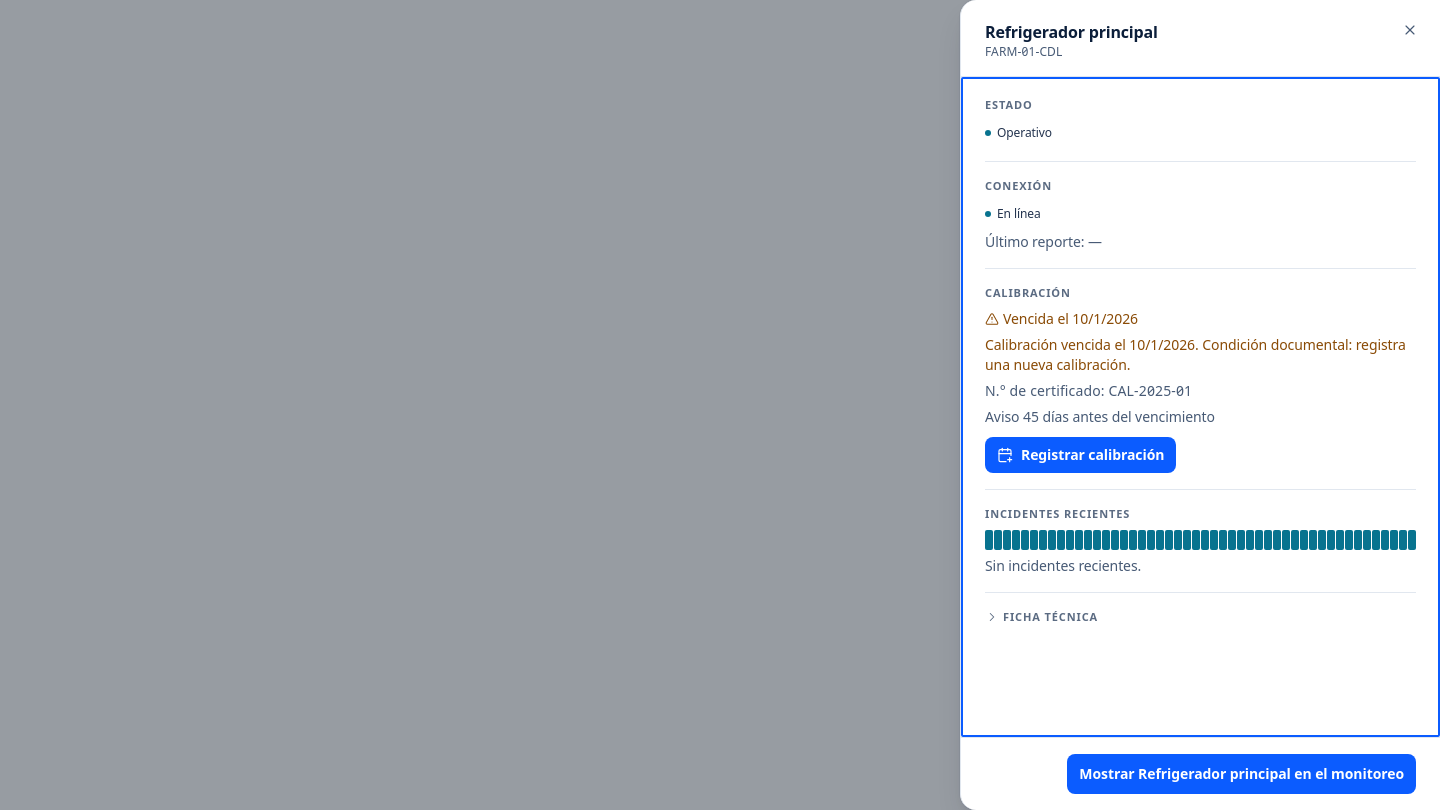
Scenario: PanelDetalleEquipo — HU-30 calibración (QF) › registra certificado, vencimiento y margen con el contrato del backend
Click the button "Registrar calibración": [1081, 455] box [985,437,1176,473]
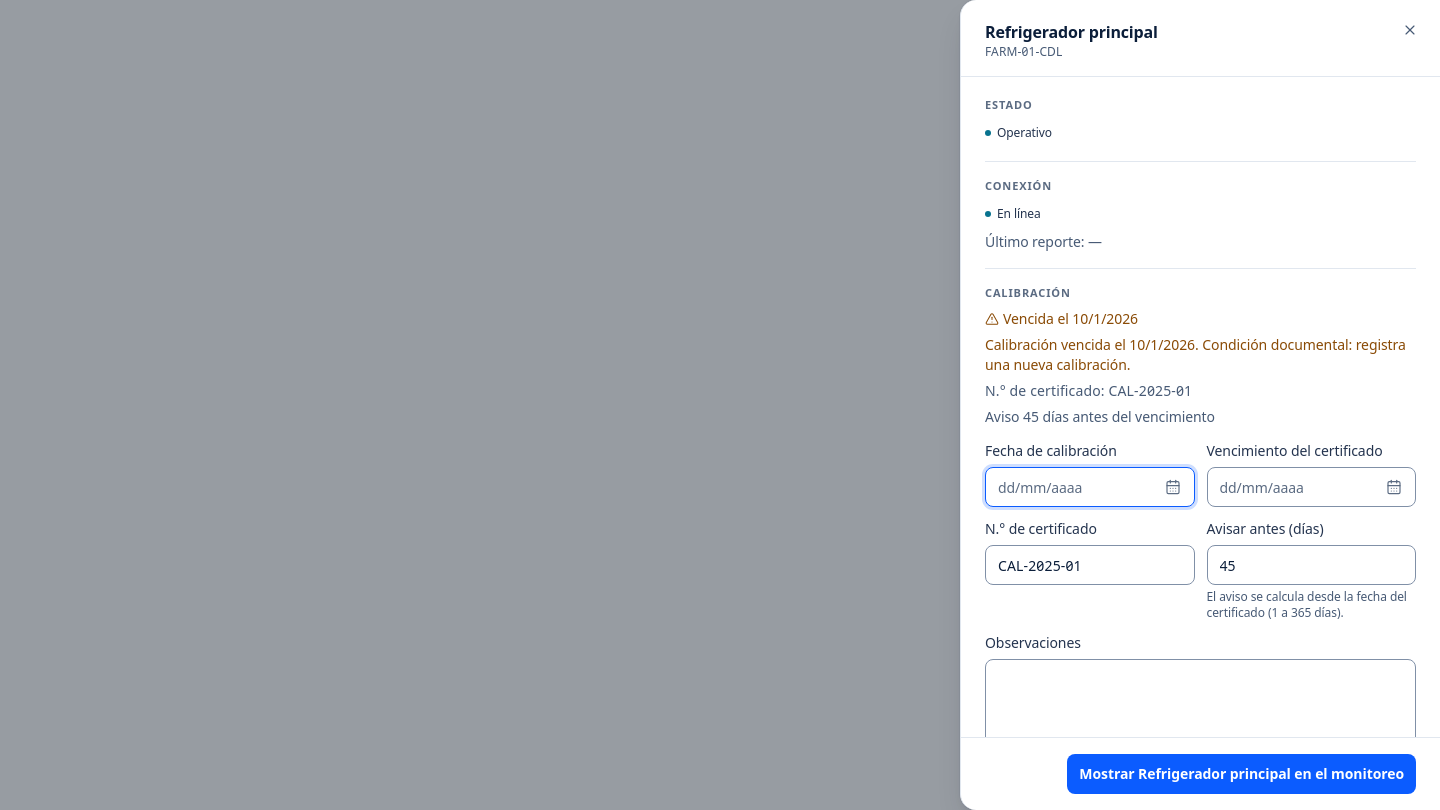
Replace the text in the field labelled "N.° de certificado" with "CAL-2026-QF": [1090, 565] box [985,545,1194,585]
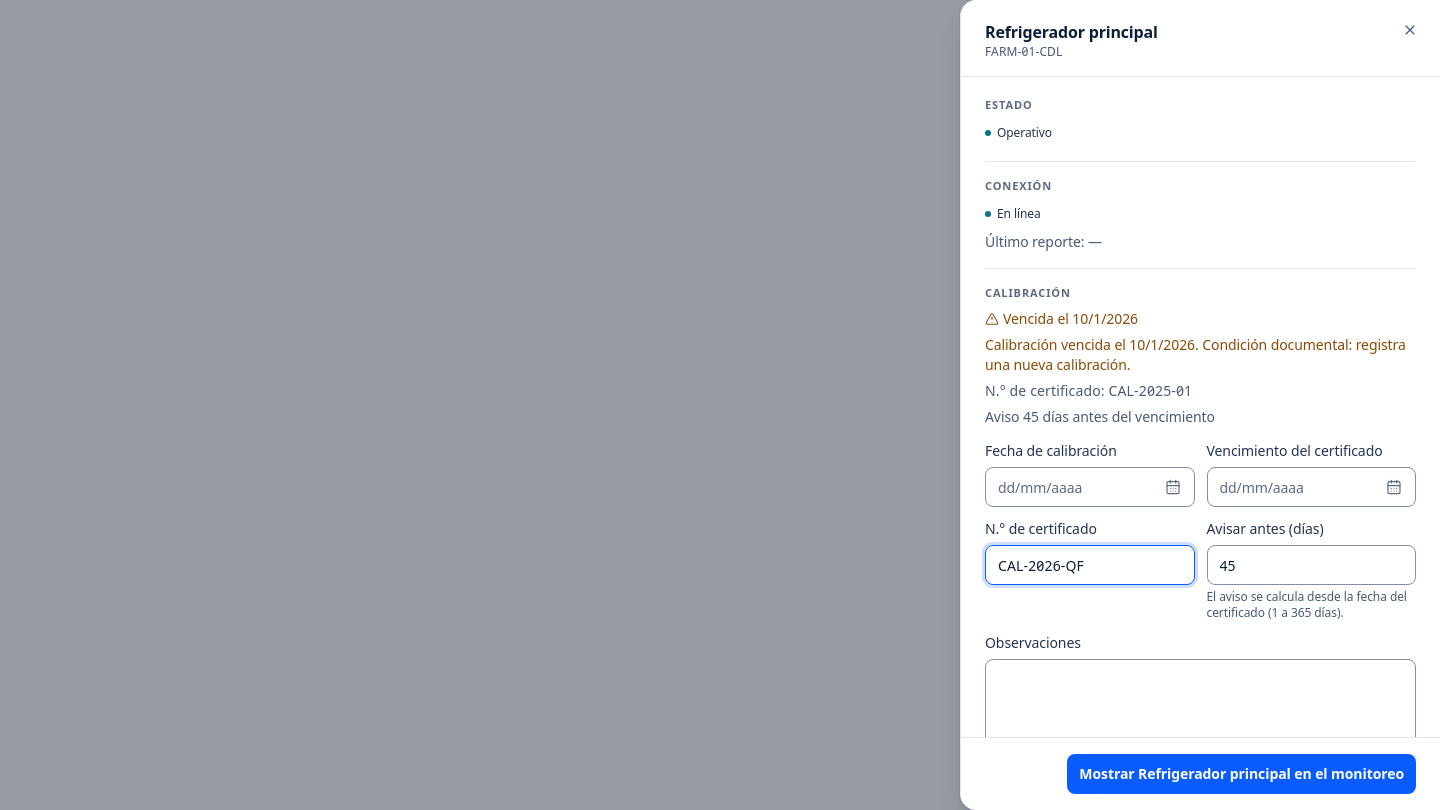
In the field labelled "Fecha de calibración": [1090, 487] box [985,467,1194,507], type "2026-11-10"
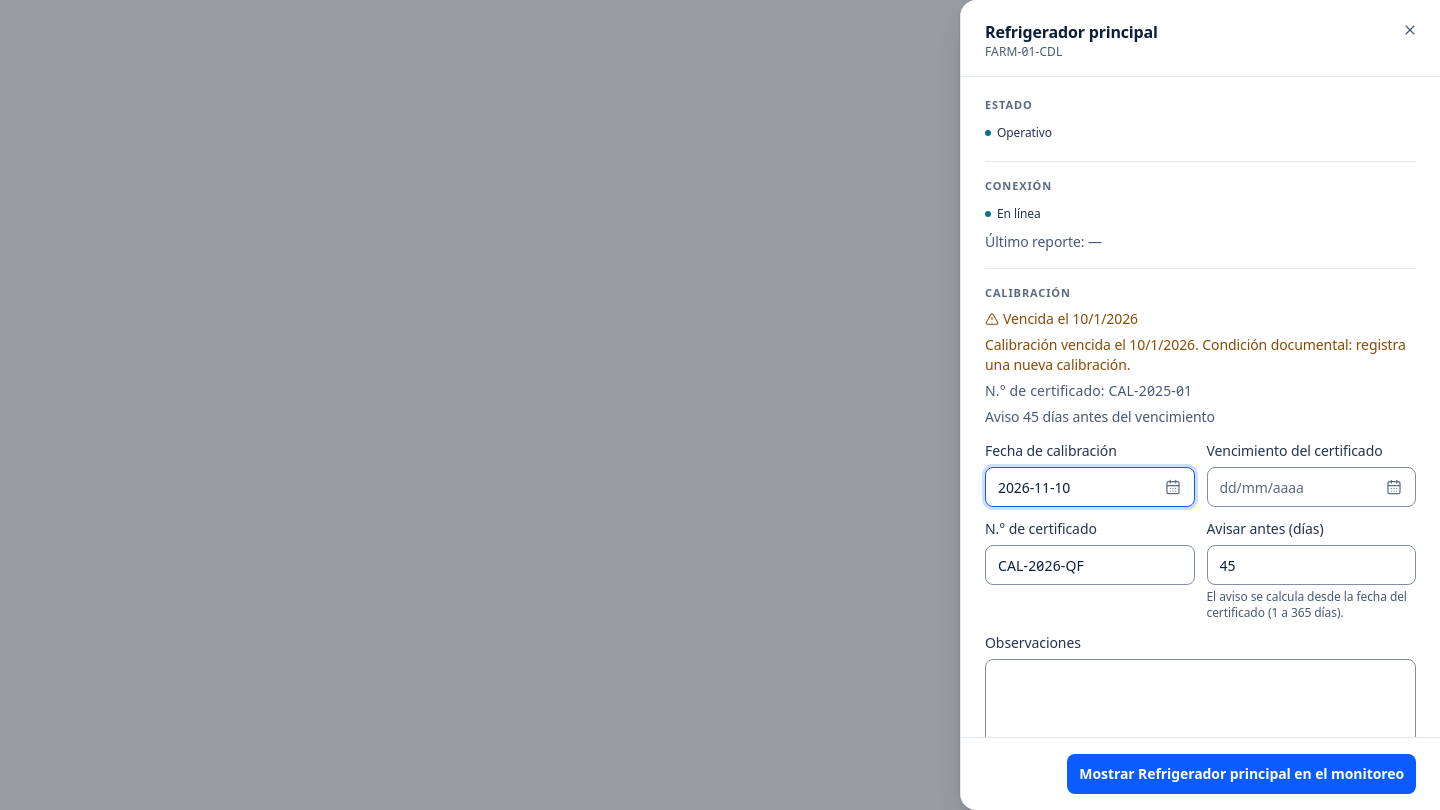
In the field labelled "Vencimiento del certificado": [1311, 487] box [1206,467,1416,507], type "2027-11-10"
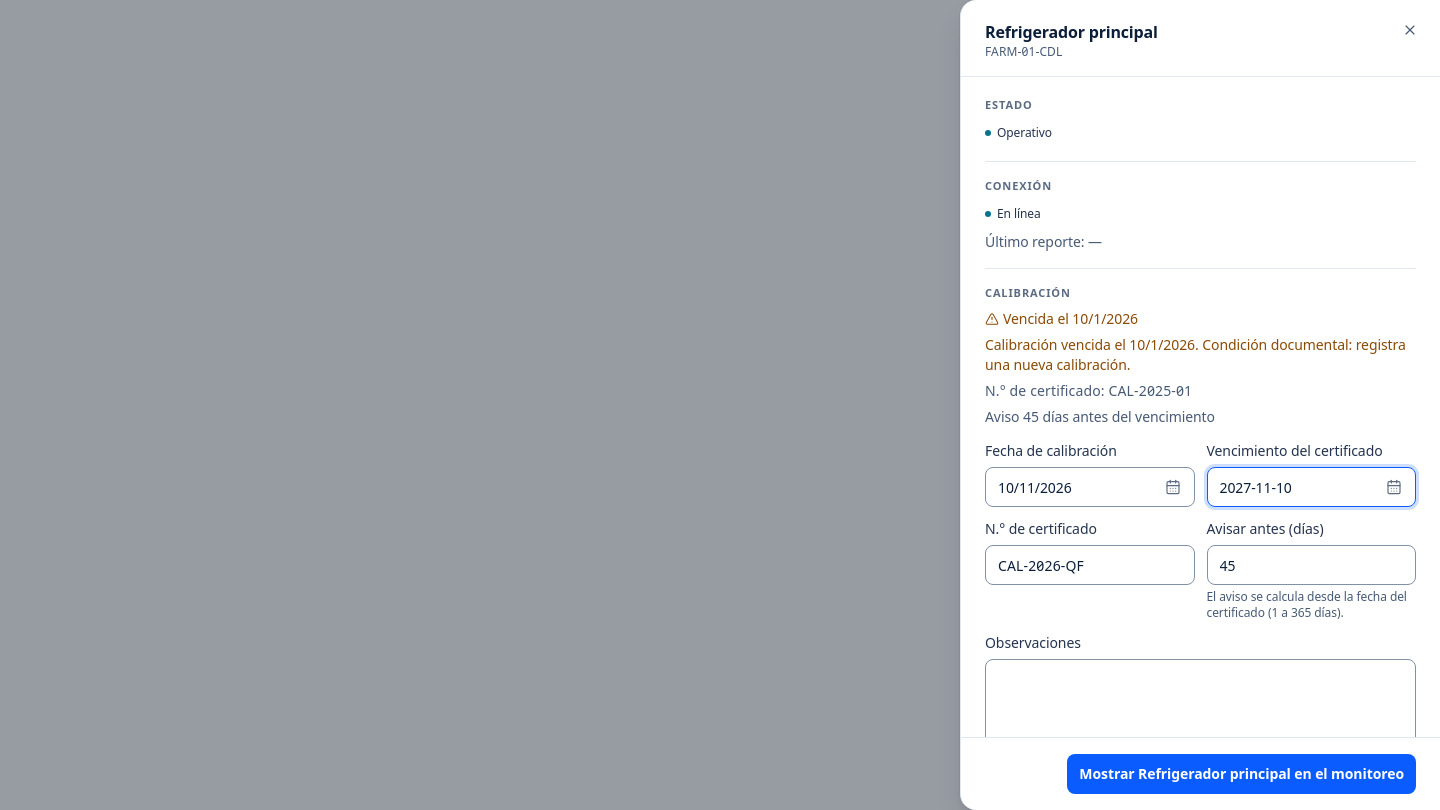
Replace the text in the number field labelled "Avisar antes (días)" with "20": [1311, 565] box [1206,545,1416,585]
(page scrolled)
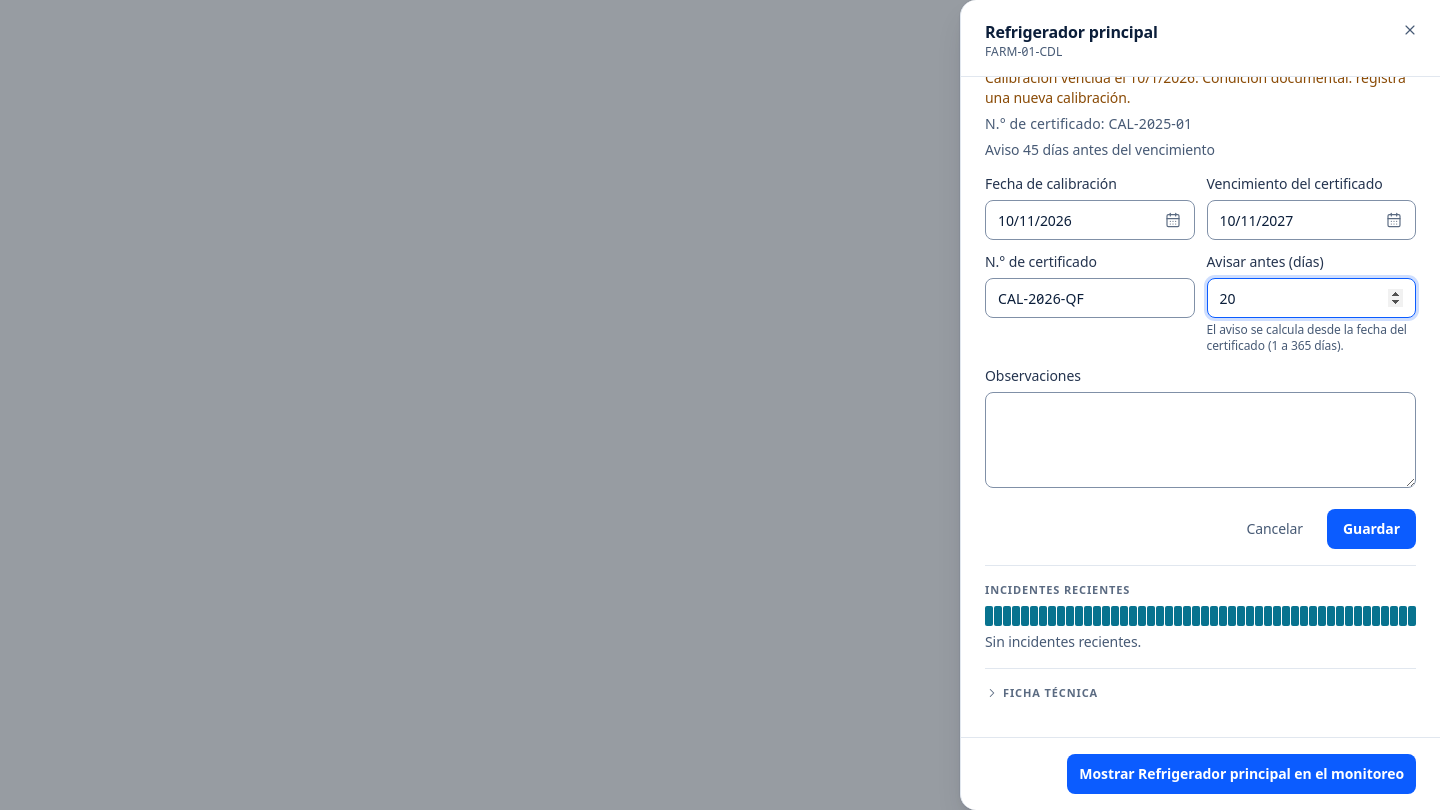
Click the button "Guardar": [1372, 529] box [1327,509,1416,549]
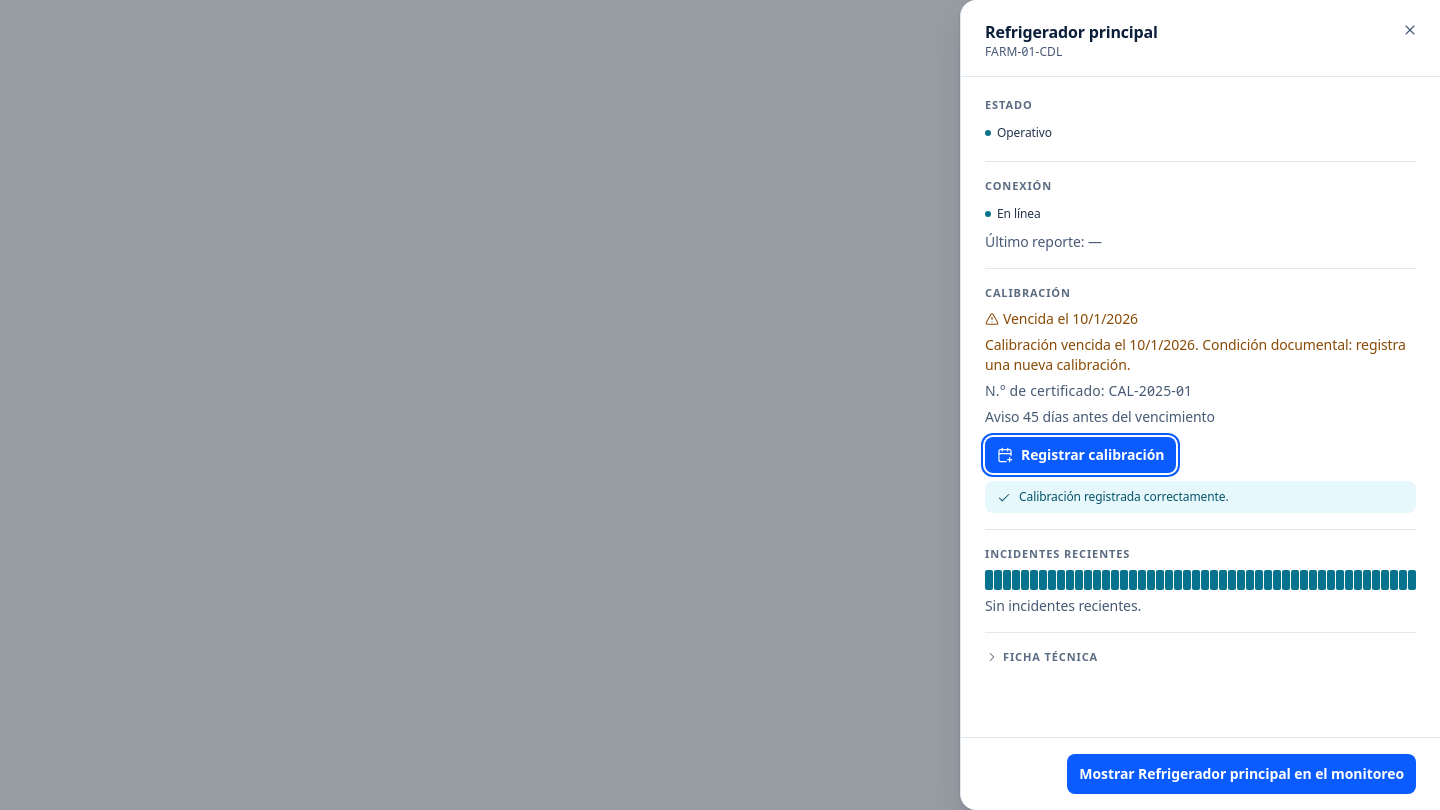
Now the text "Calibración registrada correctamente." is shown, box [985,481,1416,513]
Now the label labelled "Fecha de calibración" is gone
